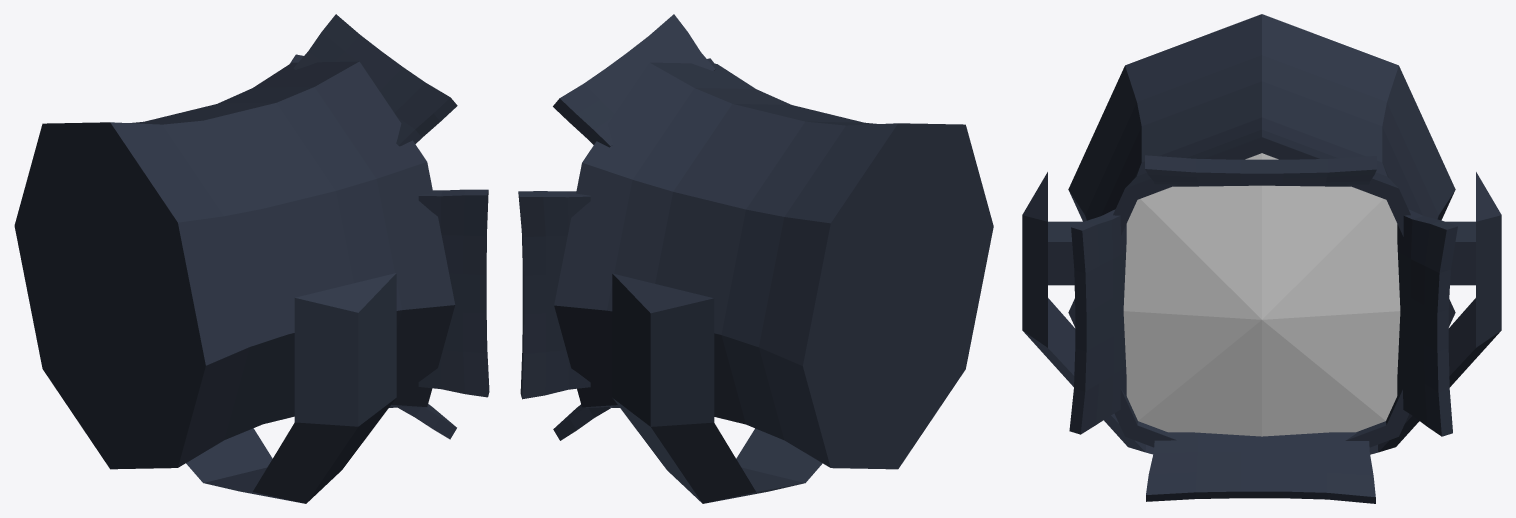
The model's file is prison_light.fbx.
3 renders of one model, left to right at view 1: azimuth 30°, elevation 25°; view 2: azimuth 150°, elevation 25°; view 3: azimuth 270°, elevation 25°, orthographic.
Parts seen in each view (by area): view 1: Cylinder; view 2: Cylinder; view 3: Cylinder.
Part boxes in pixels (box(x1,y1,x2,y2)): Cylinder: box(14, 14, 489, 503); Cylinder: box(518, 14, 993, 503); Cylinder: box(1022, 14, 1501, 503).
Size of the model in its own units: 132 by 174 by 186.
